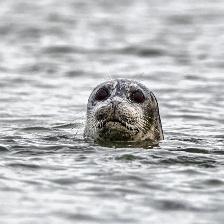seal: (83, 79, 164, 144)
